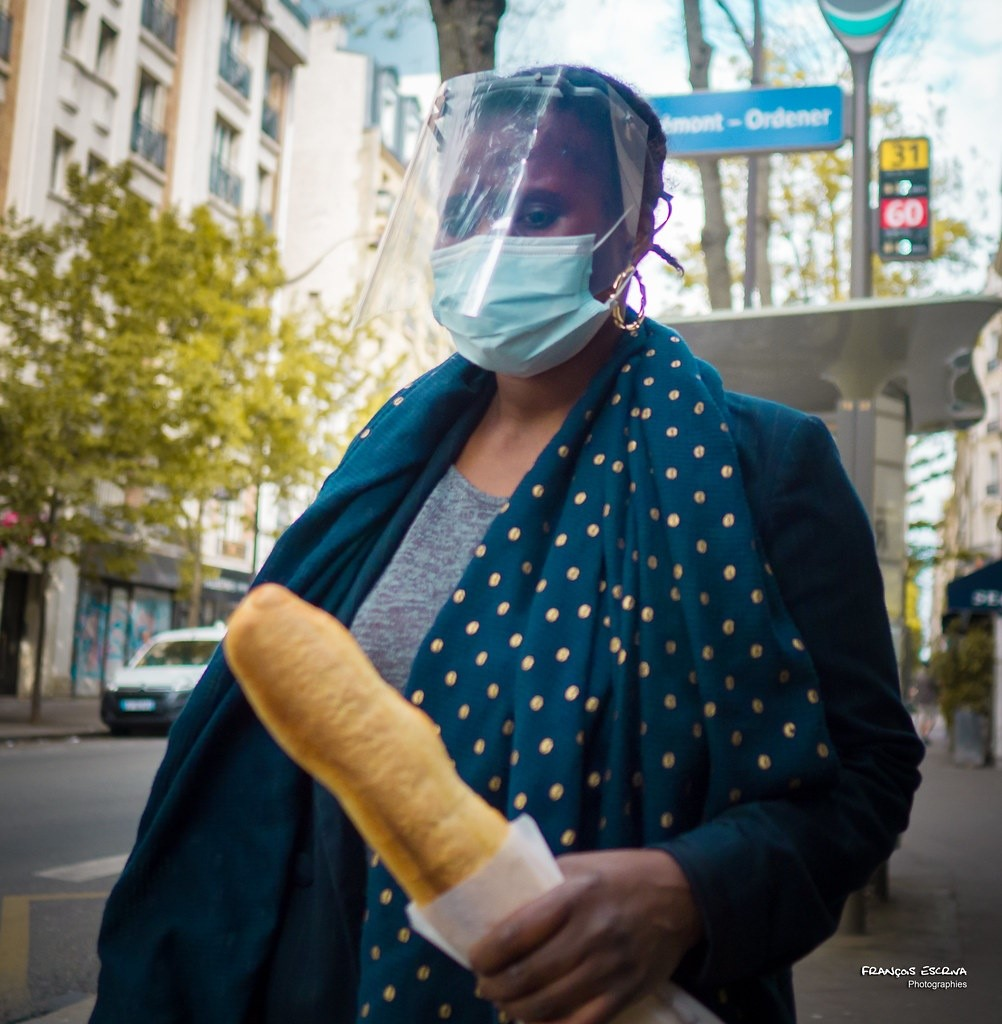face_with_mask: (420, 69, 664, 376)
